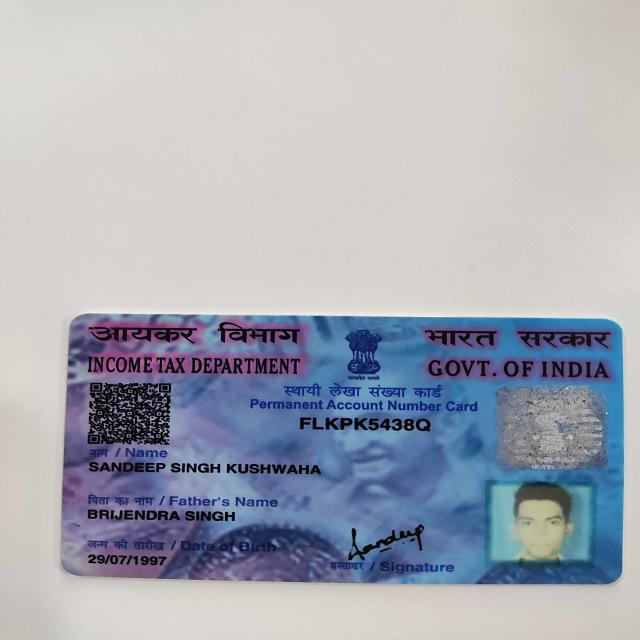pan_card: (61, 317, 618, 579)
